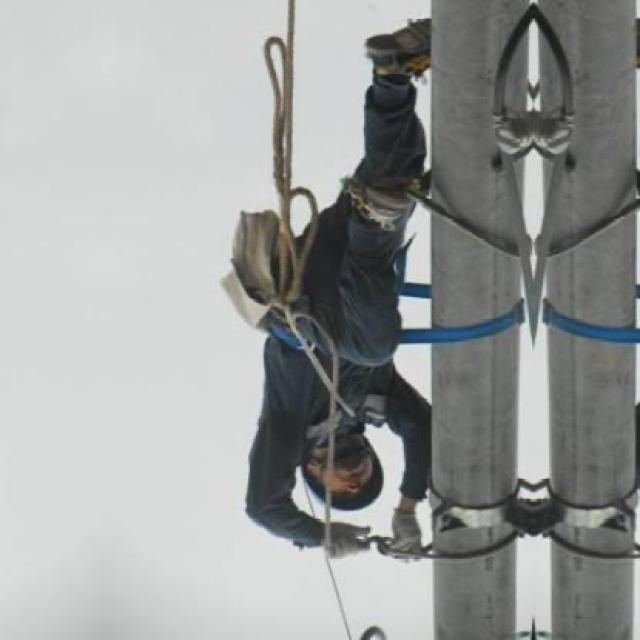con casco: (276, 418, 413, 540)
